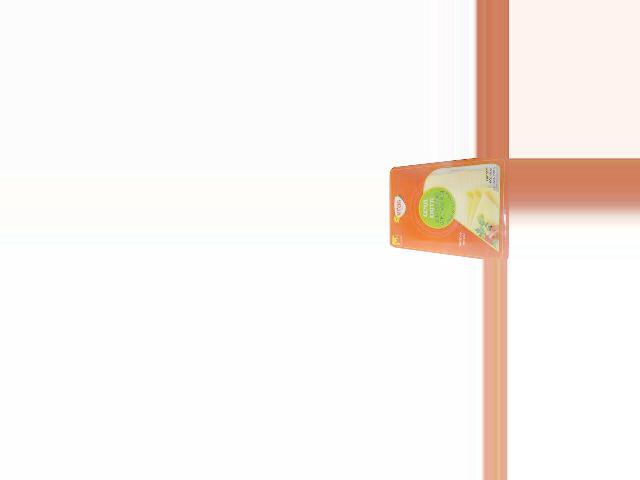cheese: (390, 160, 509, 260)
